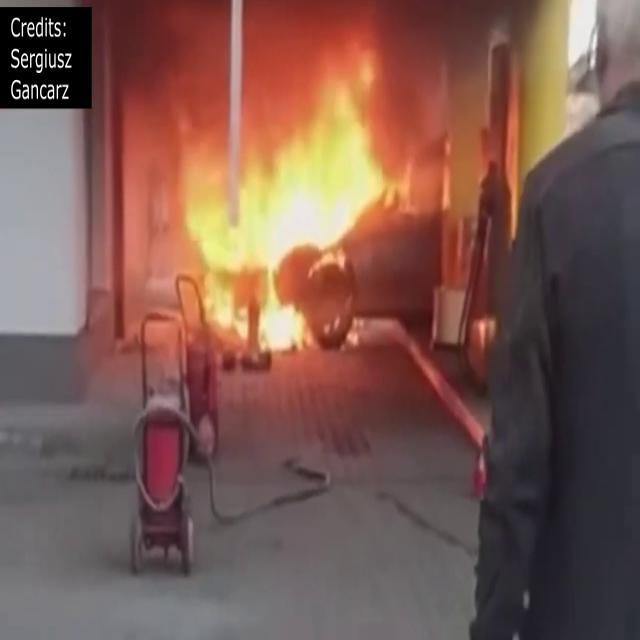Fire: (162, 44, 411, 360)
